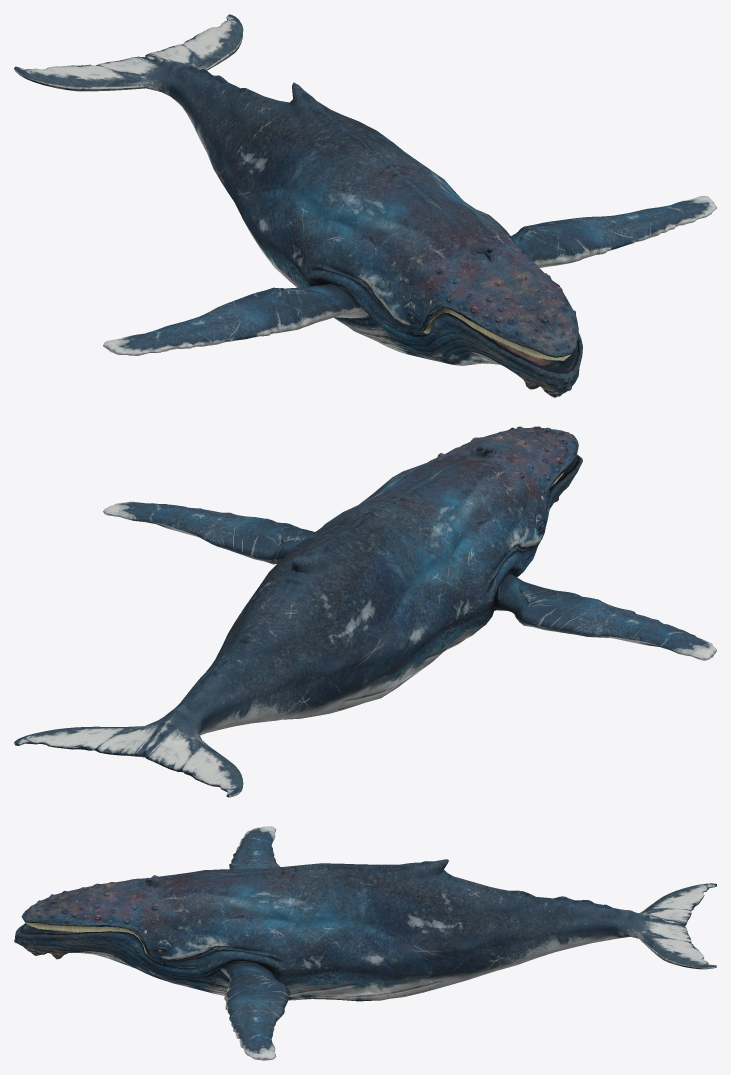
File: whale.glb
The picture shows the model from 3 angles, top to bottom: view 1: azimuth 30°, elevation 25°; view 2: azimuth 150°, elevation 25°; view 3: azimuth 270°, elevation 25°; orthographic projection. The views are drawn at different scales.
Parts seen in each view (by area): view 1: default_Material #25_0; view 2: default_Material #25_0; view 3: default_Material #25_0.
Boxes of the visible parts, x1,y1,x2,y2 form: default_Material #25_0: (14,14,716,397); default_Material #25_0: (14,426,716,797); default_Material #25_0: (14,826,716,1060).
Bounding box in the file's own units: 3.42 × 0.9377 × 4.38.
1 material, 1 textured.
